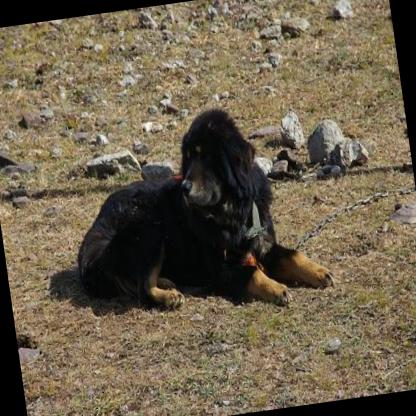Tibetan_mastiff: (25, 92, 338, 337)
